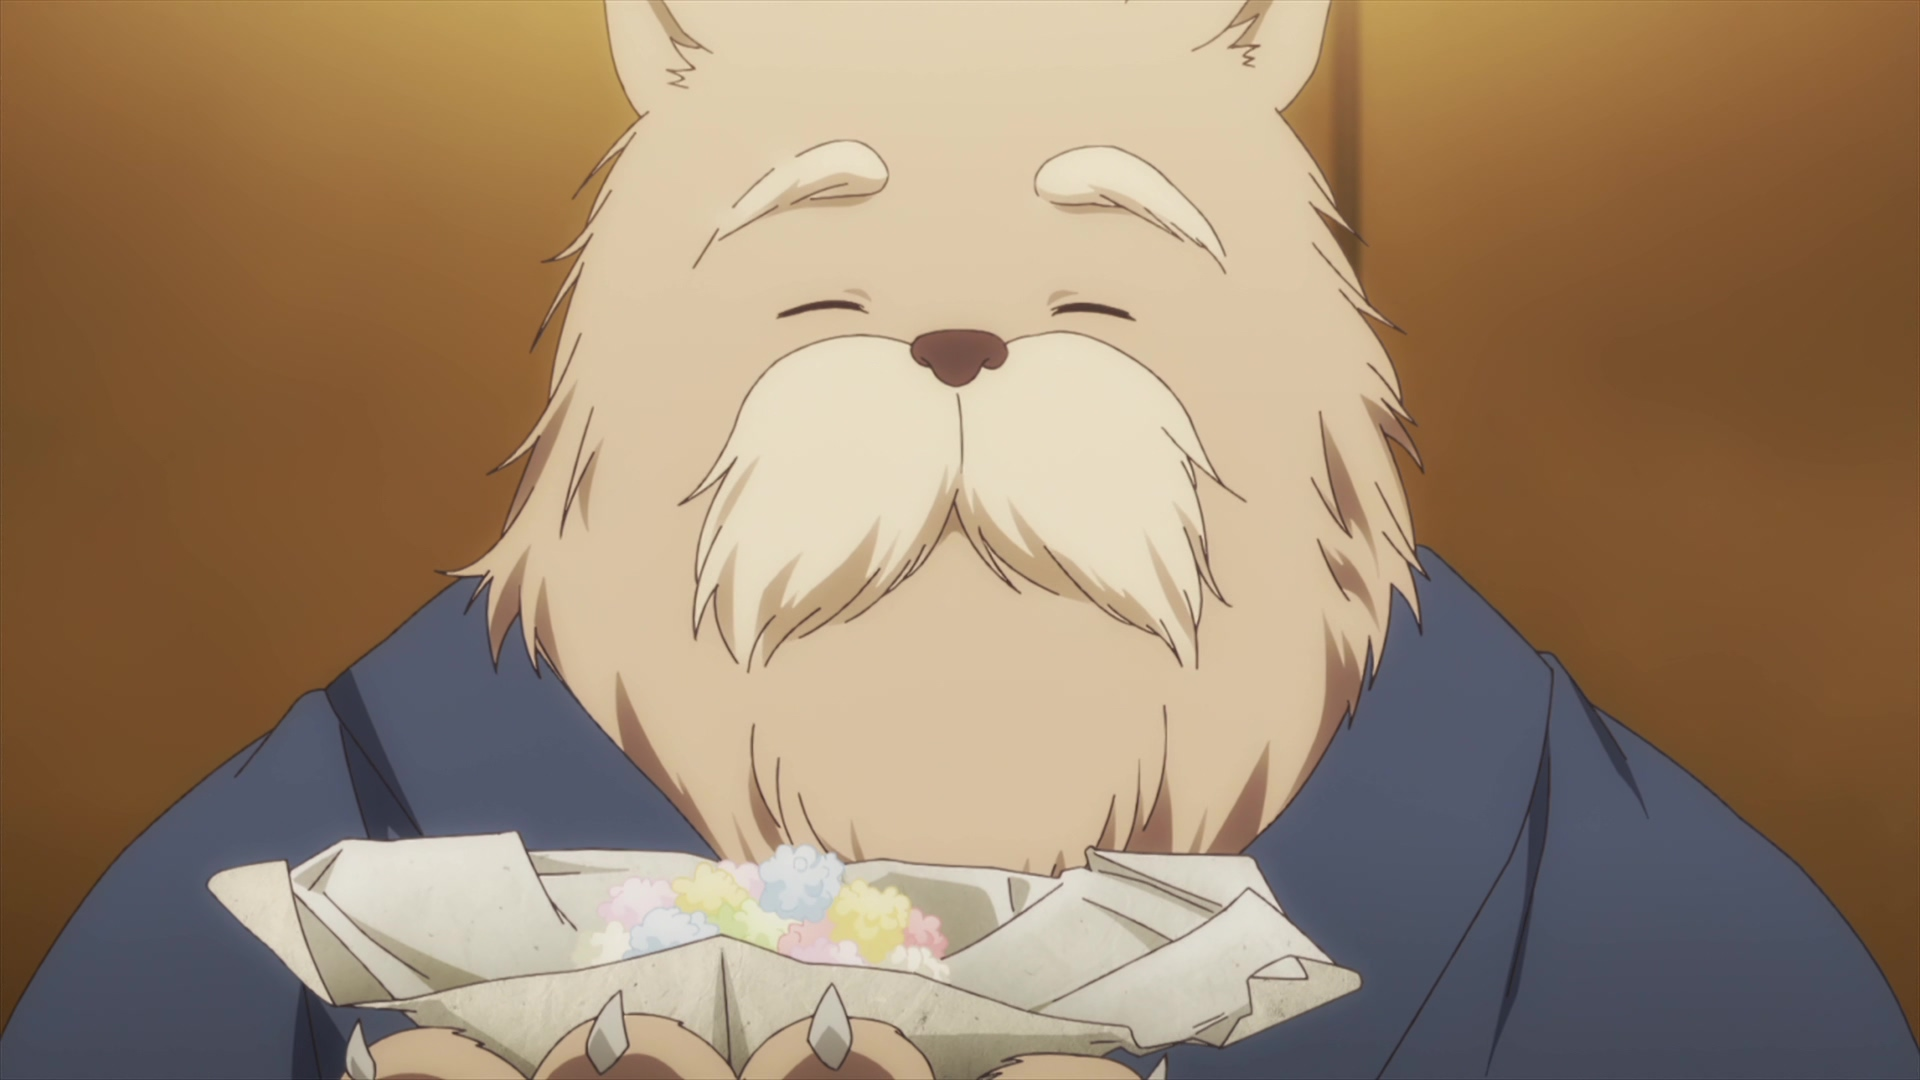药店老板: (1, 1, 1920, 1080)
